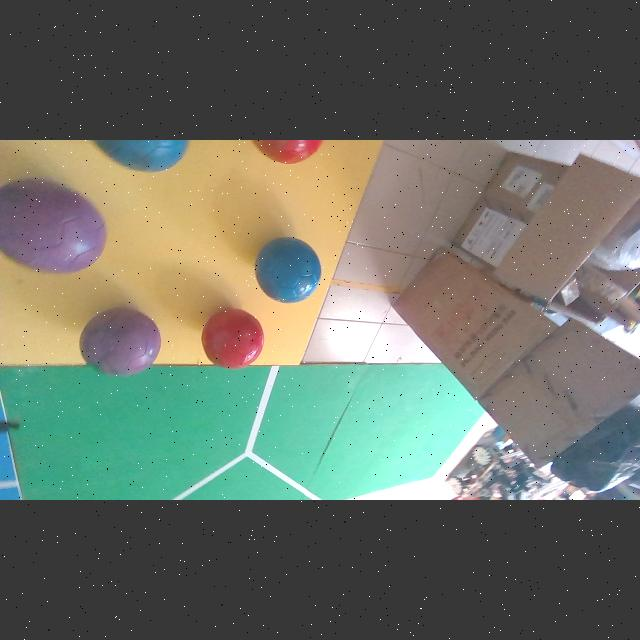B: (256, 237, 321, 303), (92, 140, 189, 172)
P: (0, 181, 106, 274), (79, 309, 161, 375)
R: (202, 308, 264, 369), (252, 140, 323, 164)
